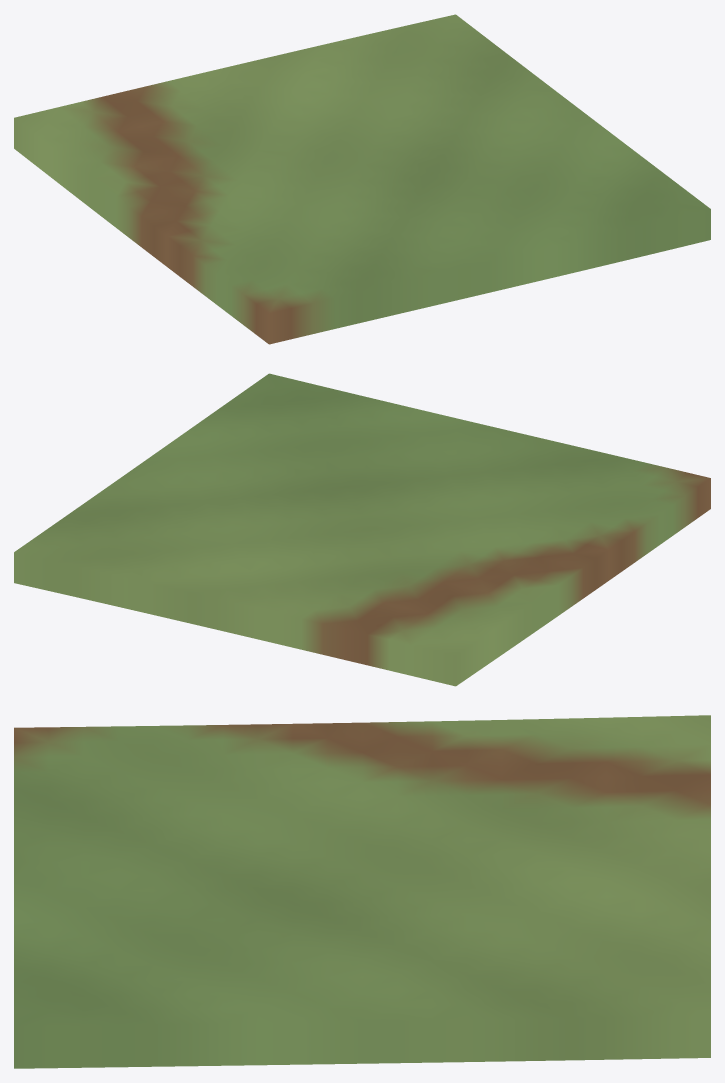
3 renders of one model, top to bottom at view 1: azimuth 30°, elevation 25°; view 2: azimuth 150°, elevation 25°; view 3: azimuth 270°, elevation 25°, orthographic. The views are drawn at different scales.
Parts seen in each view (by area): view 1: terrain; view 2: terrain; view 3: terrain.
Boxes of the visible parts, left/top/right/bottom form: terrain: left=14, top=14, right=710, bottom=344; terrain: left=14, top=373, right=710, bottom=686; terrain: left=14, top=715, right=710, bottom=1068.
Bounding box in the file's own units: 30 × 2.8 × 30.
